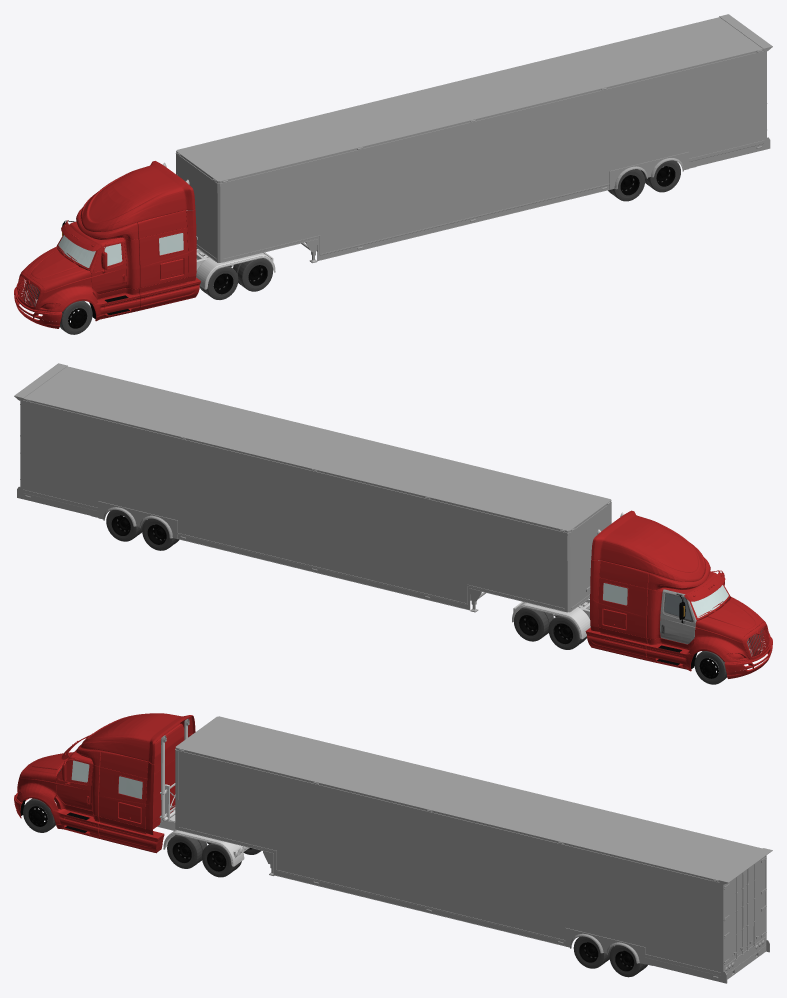
Rendered from trailer2.fbx.
The picture shows the model from 3 angles, top to bottom: view 1: azimuth 30°, elevation 25°; view 2: azimuth 150°, elevation 25°; view 3: azimuth 330°, elevation 25°; orthographic projection.
Visible parts, largest first — view 1: trailer, sub01, Hood, Door01, windows, Frame, tyres09, tyres01, tyres05; view 2: trailer, sub01, Hood, Door02, windows, Frame, tyres08, tyres04, tyres02; view 3: trailer, sub01, Hood, Frame, Door01, tyres05, tyres01, tyres09, tyres12, tyres13.
Boxes of the visible parts, x1=… form: trailer: x1=175, y1=14, x2=772, y2=263; sub01: x1=14, y1=161, x2=200, y2=328; Hood: x1=16, y1=246, x2=97, y2=311; Door01: x1=90, y1=239, x2=126, y2=294; windows: x1=58, y1=233, x2=183, y2=267; Frame: x1=24, y1=162, x2=275, y2=317; tyres09: x1=238, y1=258, x2=272, y2=291; tyres01: x1=60, y1=300, x2=92, y2=334; tyres05: x1=204, y1=266, x2=238, y2=299; trailer: x1=14, y1=363, x2=611, y2=612; sub01: x1=585, y1=510, x2=772, y2=678; Hood: x1=688, y1=596, x2=770, y2=661; Door02: x1=660, y1=589, x2=696, y2=644; windows: x1=603, y1=583, x2=728, y2=617; Frame: x1=512, y1=512, x2=763, y2=670; tyres08: x1=513, y1=607, x2=548, y2=641; tyres04: x1=548, y1=615, x2=582, y2=649; tyres02: x1=694, y1=651, x2=726, y2=684; trailer: x1=170, y1=716, x2=772, y2=983; sub01: x1=14, y1=713, x2=195, y2=853; Hood: x1=16, y1=752, x2=73, y2=810; Frame: x1=38, y1=718, x2=249, y2=866; Door01: x1=56, y1=756, x2=92, y2=810; tyres05: x1=167, y1=835, x2=202, y2=868; tyres01: x1=23, y1=798, x2=55, y2=832; tyres09: x1=202, y1=843, x2=236, y2=877; tyres12: x1=573, y1=936, x2=608, y2=968; tyres13: x1=609, y1=945, x2=644, y2=977.
Bounding box in the file's own units: 197 × 31.56 × 21.71.
